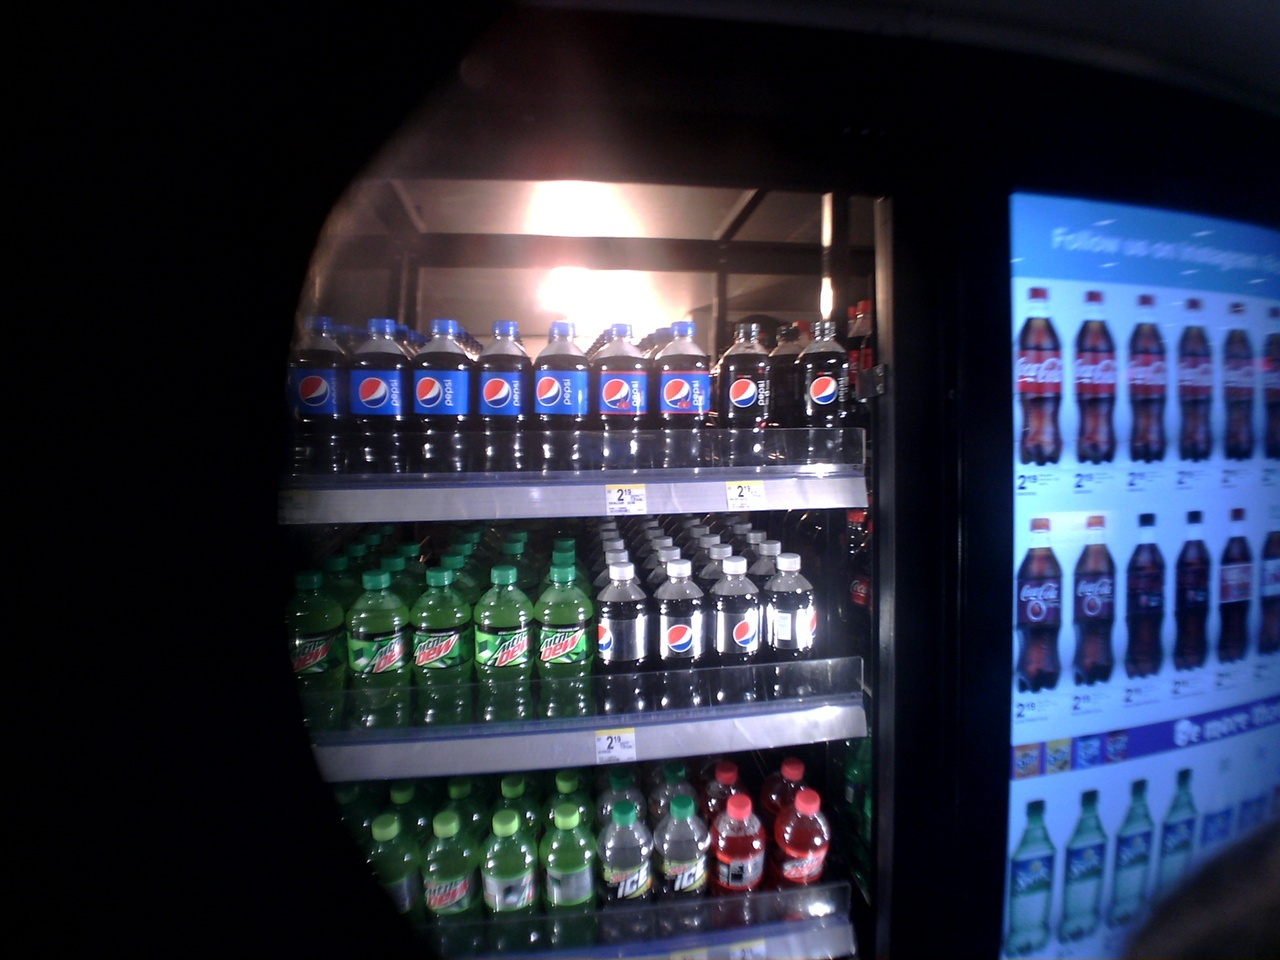shelf: (264, 508, 872, 771), (283, 285, 868, 520), (270, 753, 880, 940)
